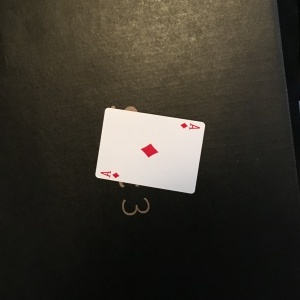card: (94, 106, 206, 194)
